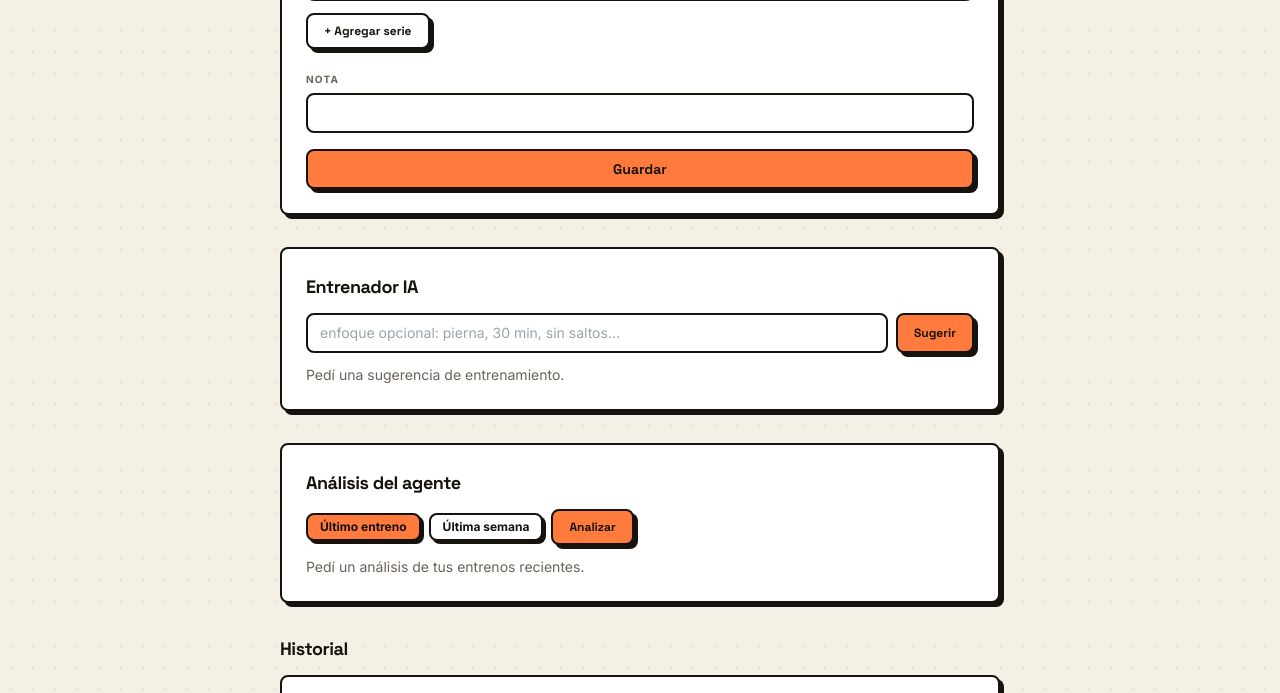
it: EntrenamientoPage › Sugerir genera y muestra la sugerencia
The width and height of the screenshot is (1280, 693).
(page scrolled)
Click the button "Sugerir" at (935, 333), box [896,313,974,353]
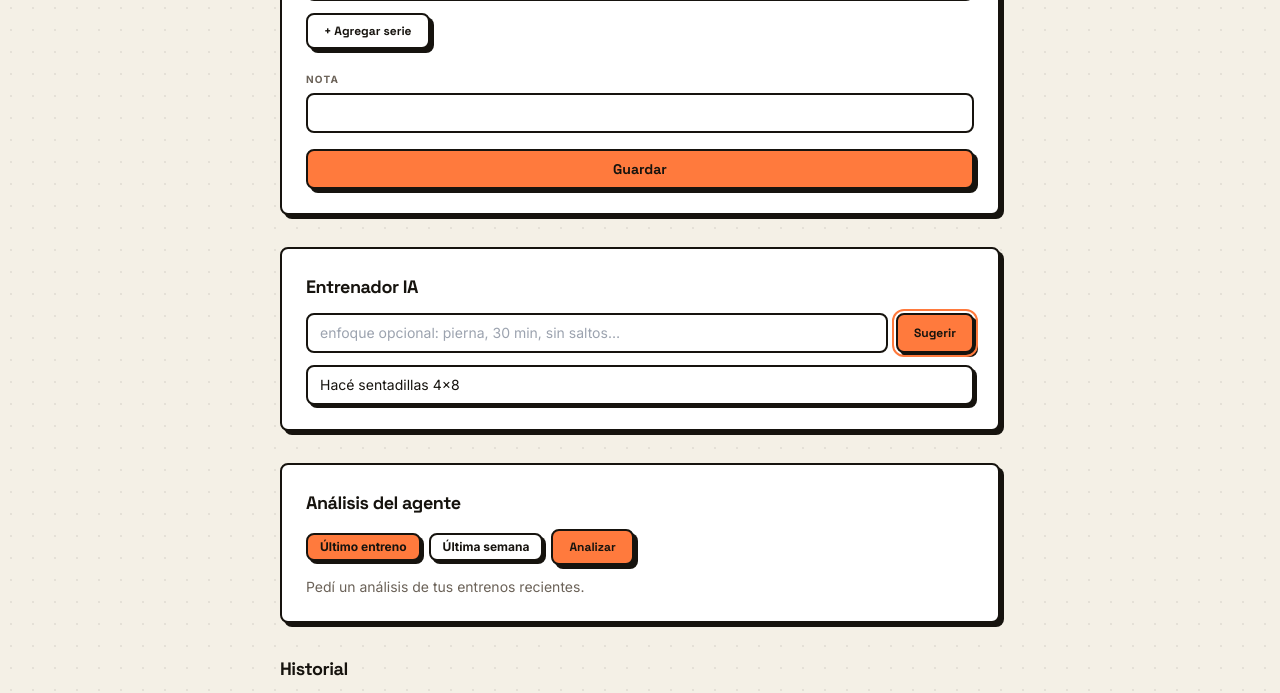
Expected: the text "Hacé sentadillas 4x8" is shown, [320,376,460,393]
